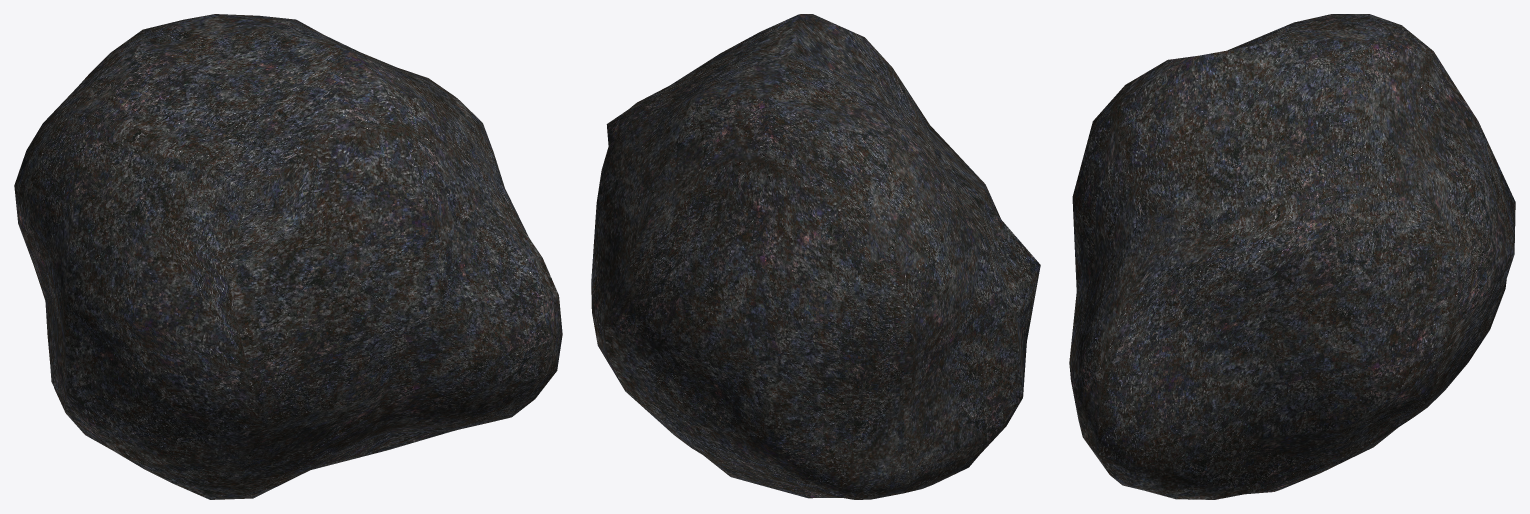
The model's file is asteroid_metal_medium_s02_l0.fbx.
3 views of the same model, side by side, from view 1: azimuth 30°, elevation 25°; view 2: azimuth 150°, elevation 25°; view 3: azimuth 270°, elevation 25° (orthographic).
Parts seen in each view (by area): view 1: mesh_node; view 2: mesh_node; view 3: mesh_node.
Part boxes in pixels (x1,y1,x2,y2): mesh_node: (14, 14, 562, 499); mesh_node: (591, 14, 1040, 499); mesh_node: (1069, 14, 1515, 499).
Size of the model in its own units: 73.28 by 73.1 by 66.64.
